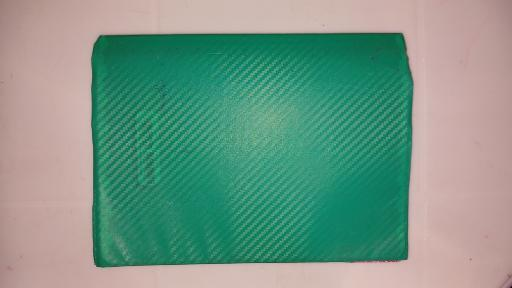notebook: (93, 31, 411, 264)
